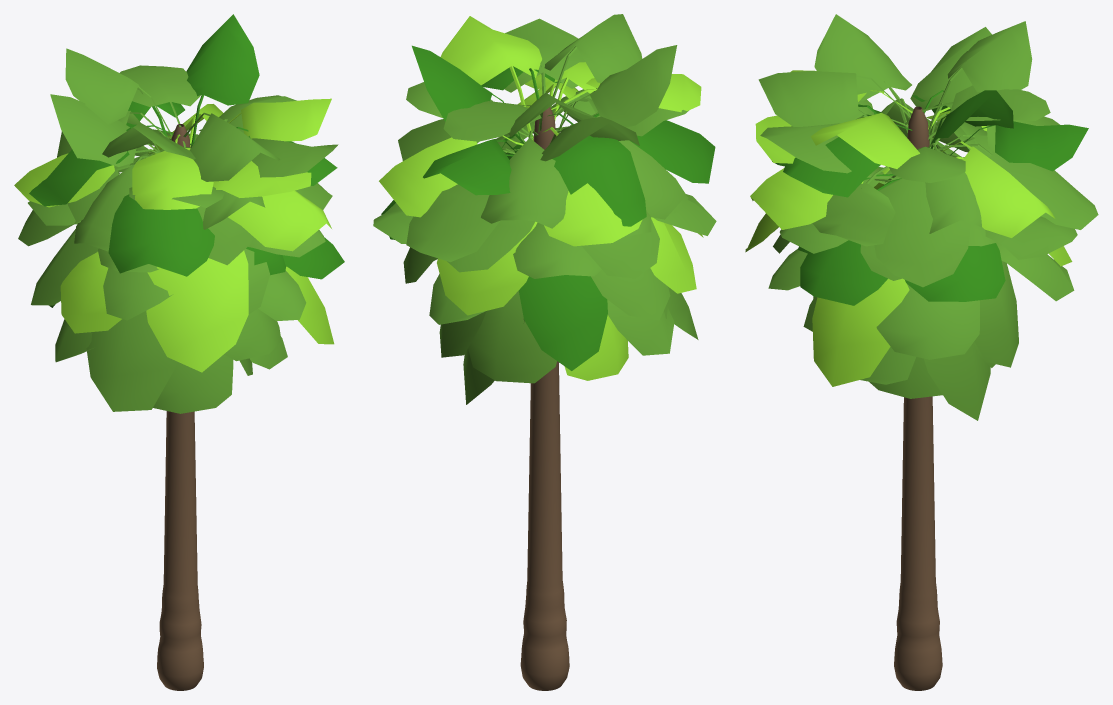
Rendered from palmeira.fbx.
3 views of the same model, side by side, from view 1: azimuth 30°, elevation 25°; view 2: azimuth 150°, elevation 25°; view 3: azimuth 270°, elevation 25° (orthographic). The views are drawn at different scales.
Visible parts, largest first — view 1: PalmBark, PalmLeaf.015, PalmLeaf.006, PalmLeaf.034, PalmLeaf.027, PalmLeaf.035, PalmLeaf.024, PalmLeaf.028, PalmLeaf.031, PalmLeaf.040, PalmLeaf.014, PalmLeaf.007 (+26 smaller); view 2: PalmBark, PalmLeaf.008, PalmLeaf.026, PalmLeaf.004, PalmLeaf.011, PalmLeaf.022, PalmLeaf.029, PalmLeaf.040, PalmLeaf.013, PalmLeaf.032, PalmLeaf.031, PalmLeaf.033 (+28 smaller); view 3: PalmBark, PalmLeaf.010, PalmLeaf.001, PalmLeaf.059, PalmLeaf.031, PalmLeaf.032, PalmLeaf.029, PalmLeaf.028, PalmLeaf.009, PalmLeaf.062, PalmLeaf.036, PalmLeaf.011 (+22 smaller).
Boxes of the visible parts, <box> form: PalmBark: <box>157,124,203,690</box>; PalmLeaf.015: <box>146,250,248,372</box>; PalmLeaf.006: <box>86,311,177,411</box>; PalmLeaf.034: <box>108,194,214,276</box>; PalmLeaf.027: <box>186,14,259,147</box>; PalmLeaf.035: <box>228,190,331,251</box>; PalmLeaf.024: <box>132,134,213,209</box>; PalmLeaf.028: <box>65,48,172,137</box>; PalmLeaf.031: <box>183,112,280,181</box>; PalmLeaf.040: <box>228,98,331,141</box>; PalmLeaf.014: <box>60,251,121,333</box>; PalmLeaf.007: <box>153,354,233,413</box>; PalmBark: <box>520,107,569,690</box>; PalmLeaf.008: <box>518,275,607,370</box>; PalmLeaf.026: <box>547,113,646,226</box>; PalmLeaf.004: <box>468,291,556,383</box>; PalmLeaf.011: <box>406,149,518,262</box>; PalmLeaf.022: <box>481,130,568,228</box>; PalmLeaf.029: <box>557,45,677,131</box>; PalmLeaf.040: <box>440,16,541,140</box>; PalmLeaf.013: <box>437,221,537,315</box>; PalmLeaf.032: <box>379,135,523,217</box>; PalmLeaf.031: <box>544,14,642,107</box>; PalmLeaf.033: <box>542,127,642,246</box>; PalmBark: <box>894,106,942,690</box>; PalmLeaf.010: <box>874,148,970,287</box>; PalmLeaf.001: <box>812,278,909,386</box>; PalmLeaf.059: <box>876,284,979,359</box>; PalmLeaf.031: <box>758,71,910,126</box>; PalmLeaf.032: <box>941,141,1055,237</box>; PalmLeaf.029: <box>814,14,911,132</box>; PalmLeaf.028: <box>928,21,1032,134</box>; PalmLeaf.009: <box>800,178,901,305</box>; PalmLeaf.062: <box>812,166,895,246</box>; PalmLeaf.036: <box>950,121,1088,171</box>; PalmLeaf.011: <box>934,143,1098,229</box>.
Size of the model in its own units: 1906 by 4101 by 2054.
